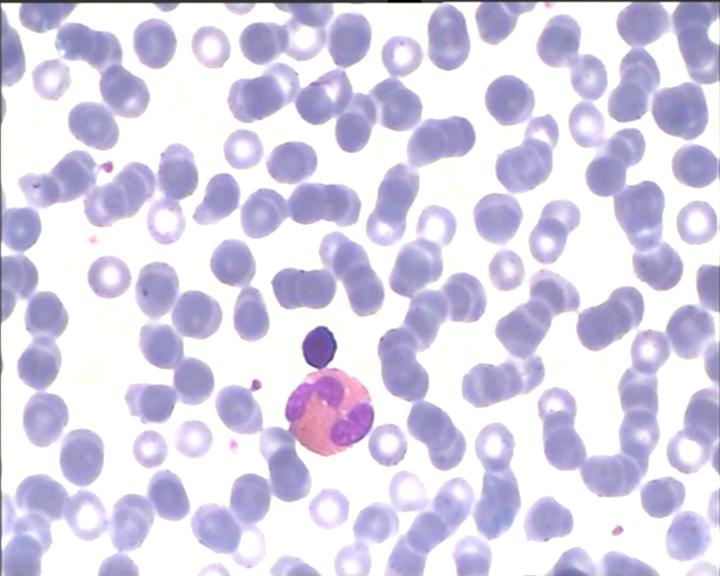eosi: (280, 363, 375, 458)
